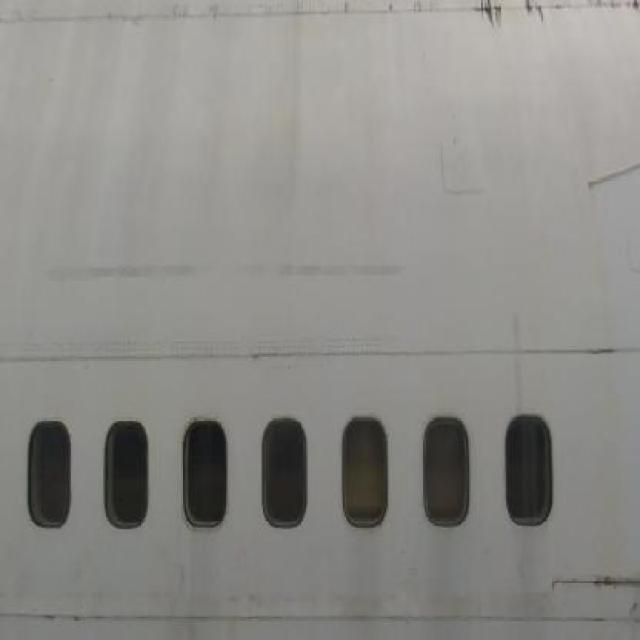Rust: (454, 1, 640, 34), (583, 562, 640, 606)
Scartch: (42, 247, 406, 295)
